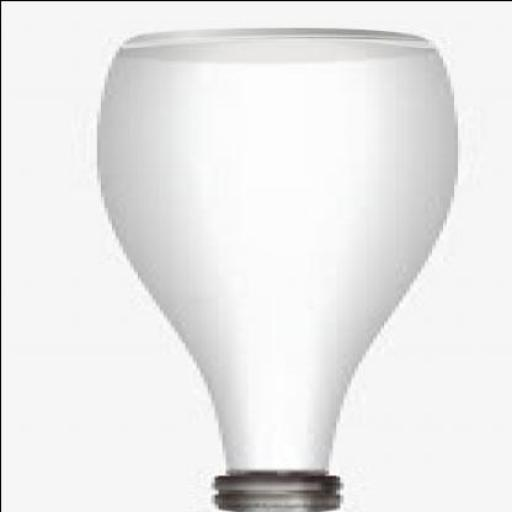glass: (99, 30, 461, 478)
metal: (214, 472, 347, 510)
